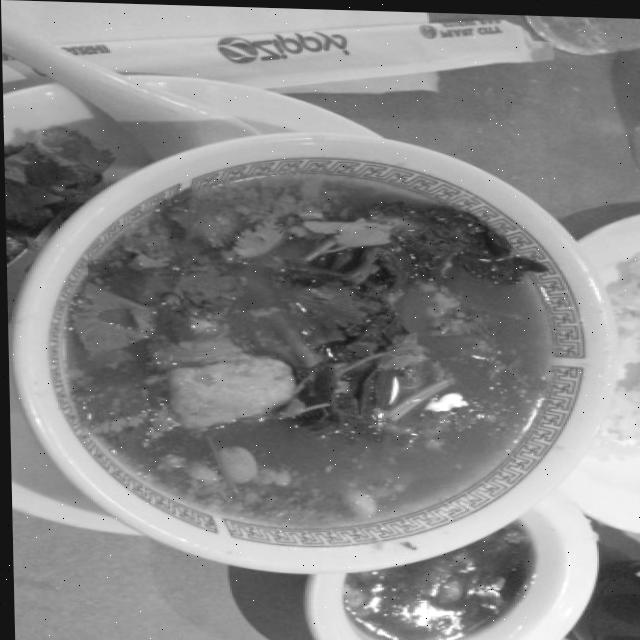汤锅炖物: (17, 104, 616, 594)
